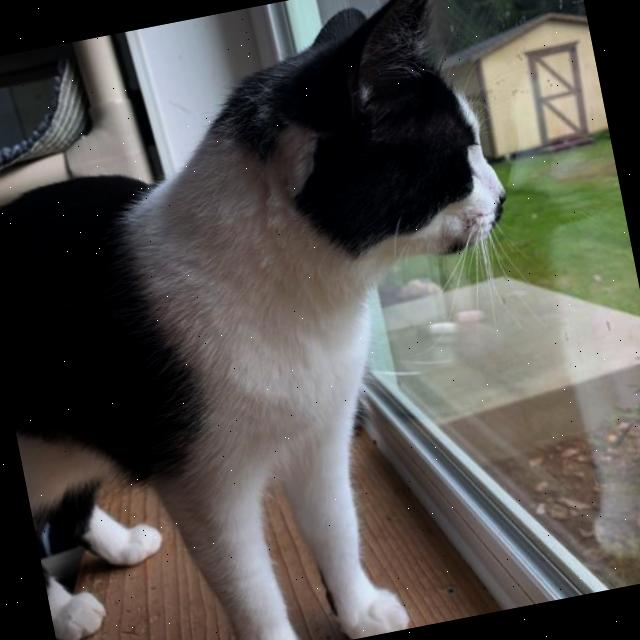american_shorthair_cat: (187, 0, 531, 318)
